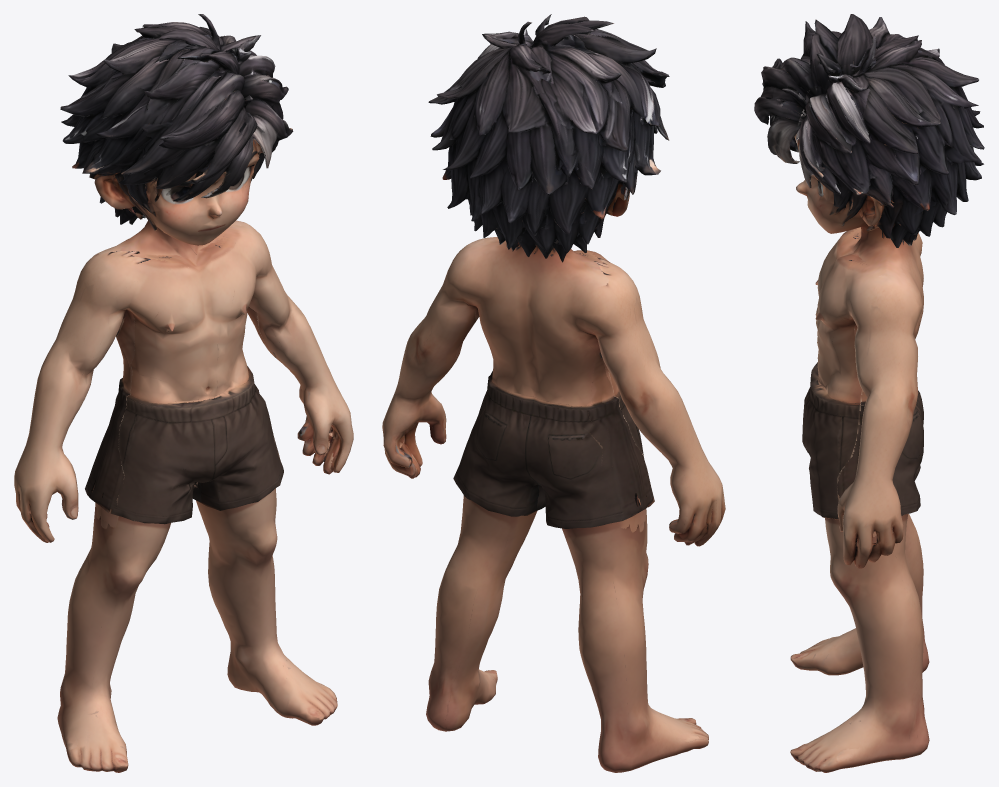
The model's file is body.glb.
3 views of the same model, side by side, from view 1: azimuth 30°, elevation 25°; view 2: azimuth 150°, elevation 25°; view 3: azimuth 270°, elevation 25° (orthographic). The views are drawn at different scales.
Parts seen in each view (by area): view 1: texture_mapping; view 2: texture_mapping; view 3: texture_mapping.
Boxes of the visible parts, x1,y1,x2,y2 form: texture_mapping: (14, 14, 353, 772); texture_mapping: (382, 14, 725, 772); texture_mapping: (754, 14, 984, 772).
Size of the model in its own units: 0.4867 by 1 by 0.3028.
Materials: 1 (1 with a texture image).
